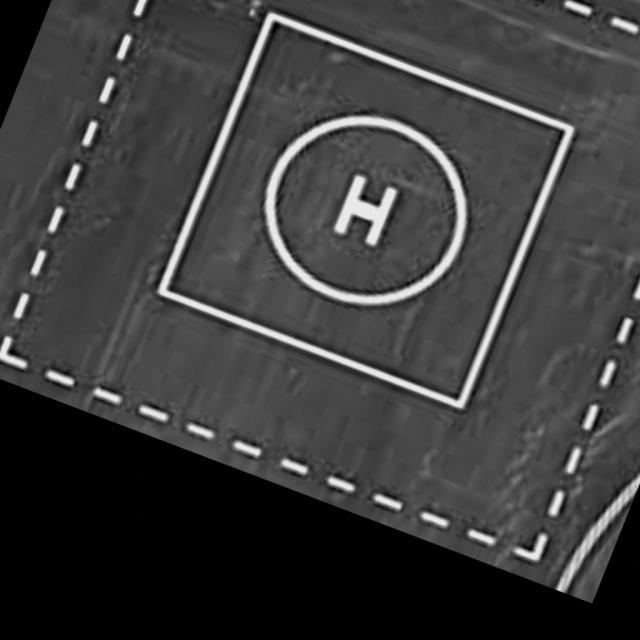helipad: (259, 107, 472, 310)
